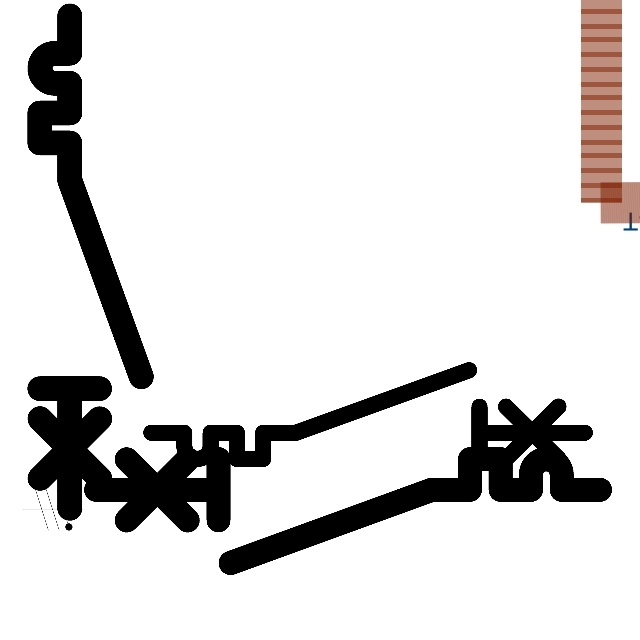interruptor_termomagnetico: (82, 446, 612, 575), (27, 3, 154, 521), (140, 359, 596, 470)
